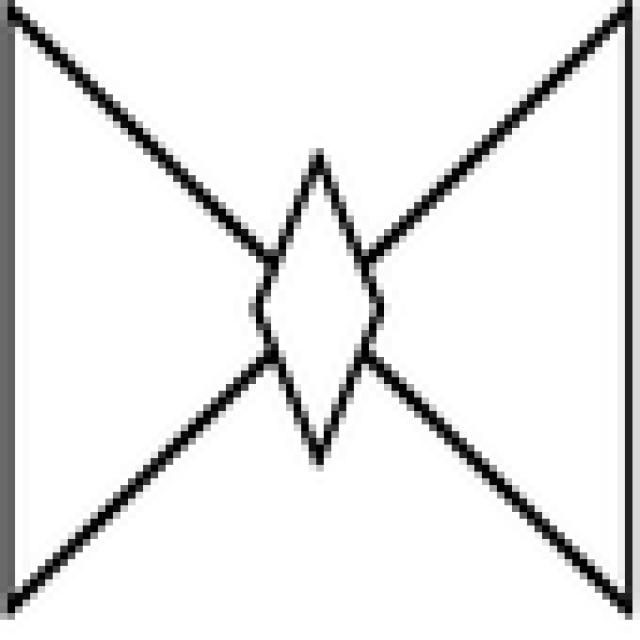Plug Valve: (0, 0, 632, 619)
